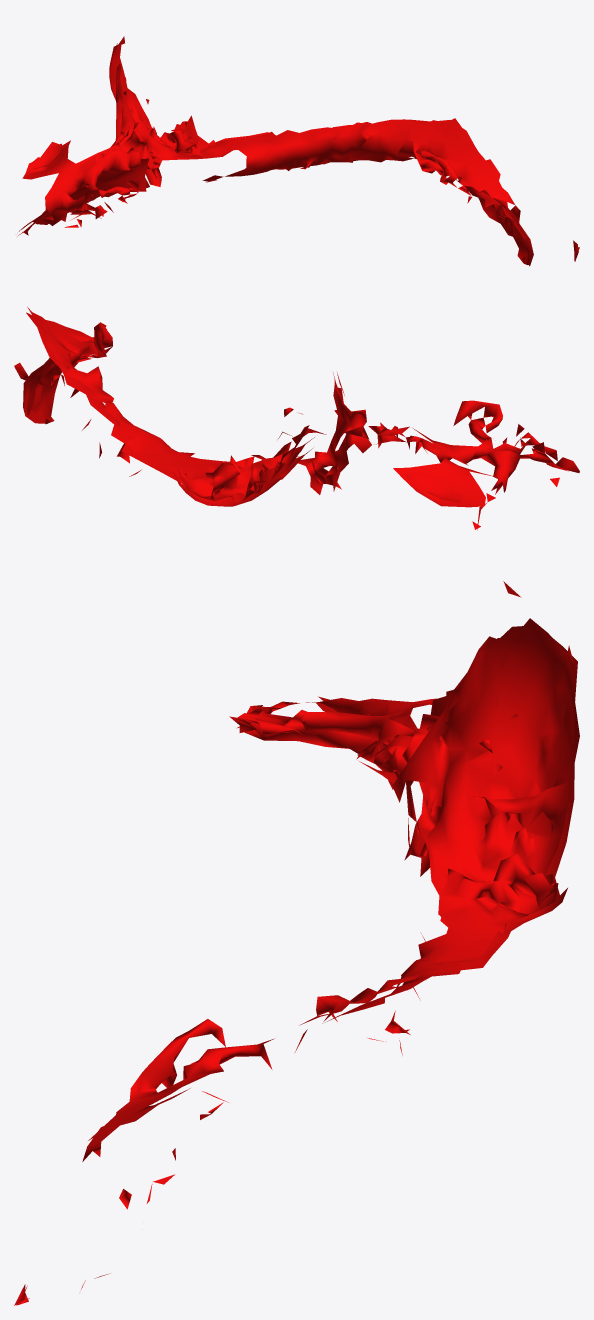
The model's file is Unity2Skfb.gltf.
3 views of the same model, one above another, from view 1: azimuth 30°, elevation 25°; view 2: azimuth 150°, elevation 25°; view 3: azimuth 270°, elevation 25° (orthographic). The views are drawn at different scales.
Visible parts, largest first — view 1: transform; view 2: transform; view 3: transform.
Boxes of the visible parts, <box> form: transform: <box>17,36,579,266</box>; transform: <box>14,307,579,530</box>; transform: <box>14,581,579,1305</box>.
Bounding box in the file's own units: 0.0904 × 0.0436 × 0.0487.
